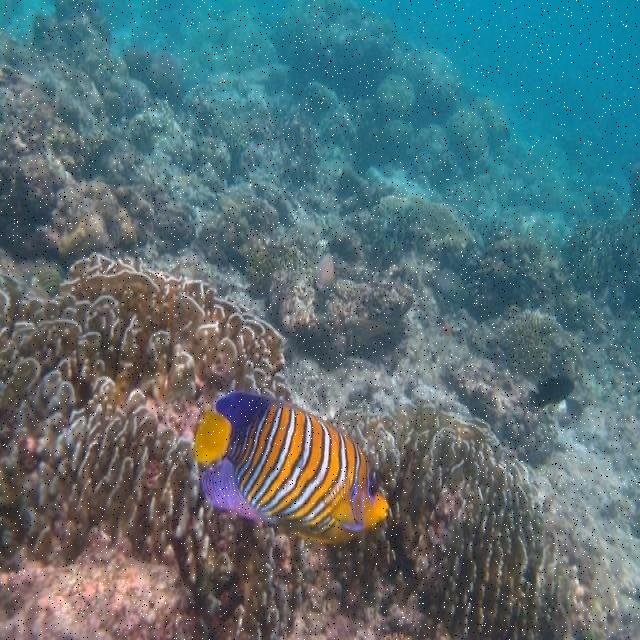fish: (192, 395, 392, 544)
sea-floor: (0, 258, 592, 639)
